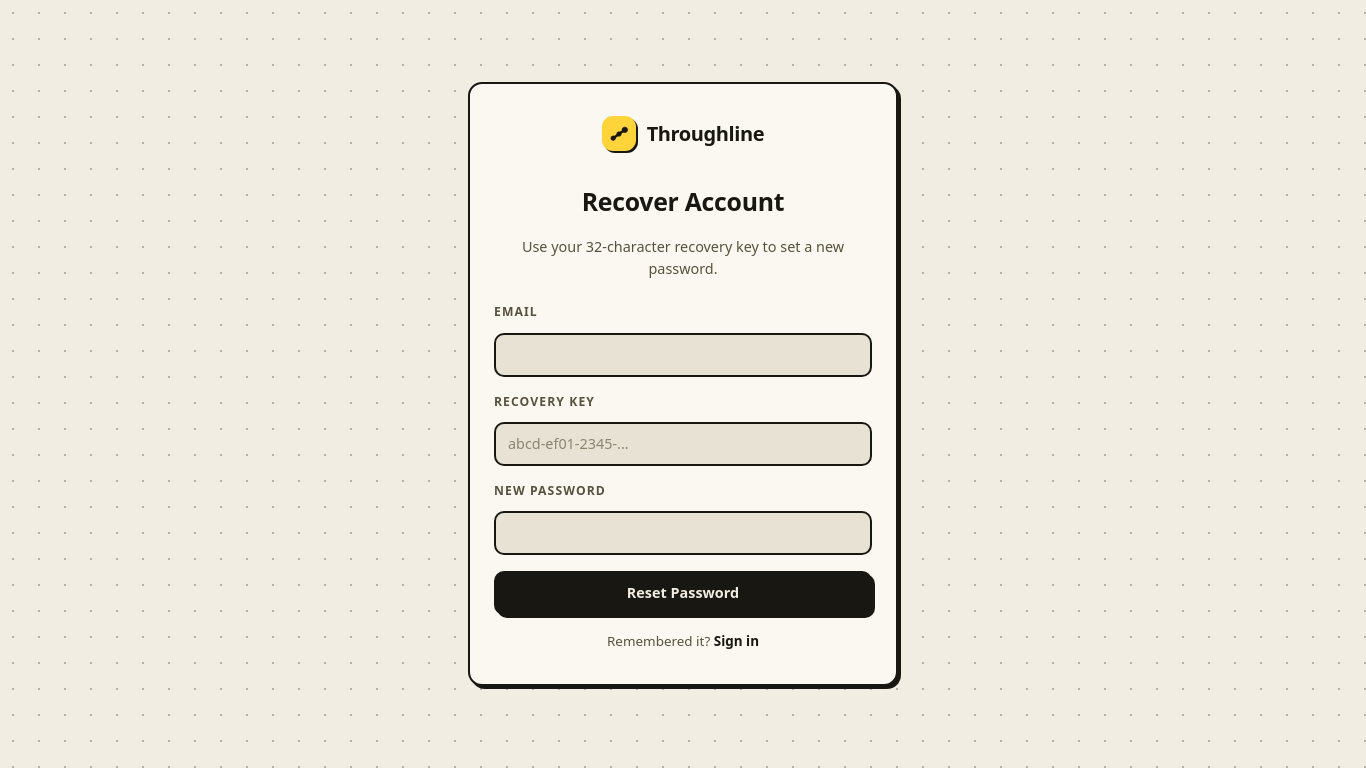
ForgotPassword › validates short passwords
The image size is (1366, 768).
In the field labelled "Email": (683, 355) [494,333,872,377], type "test@test.com"
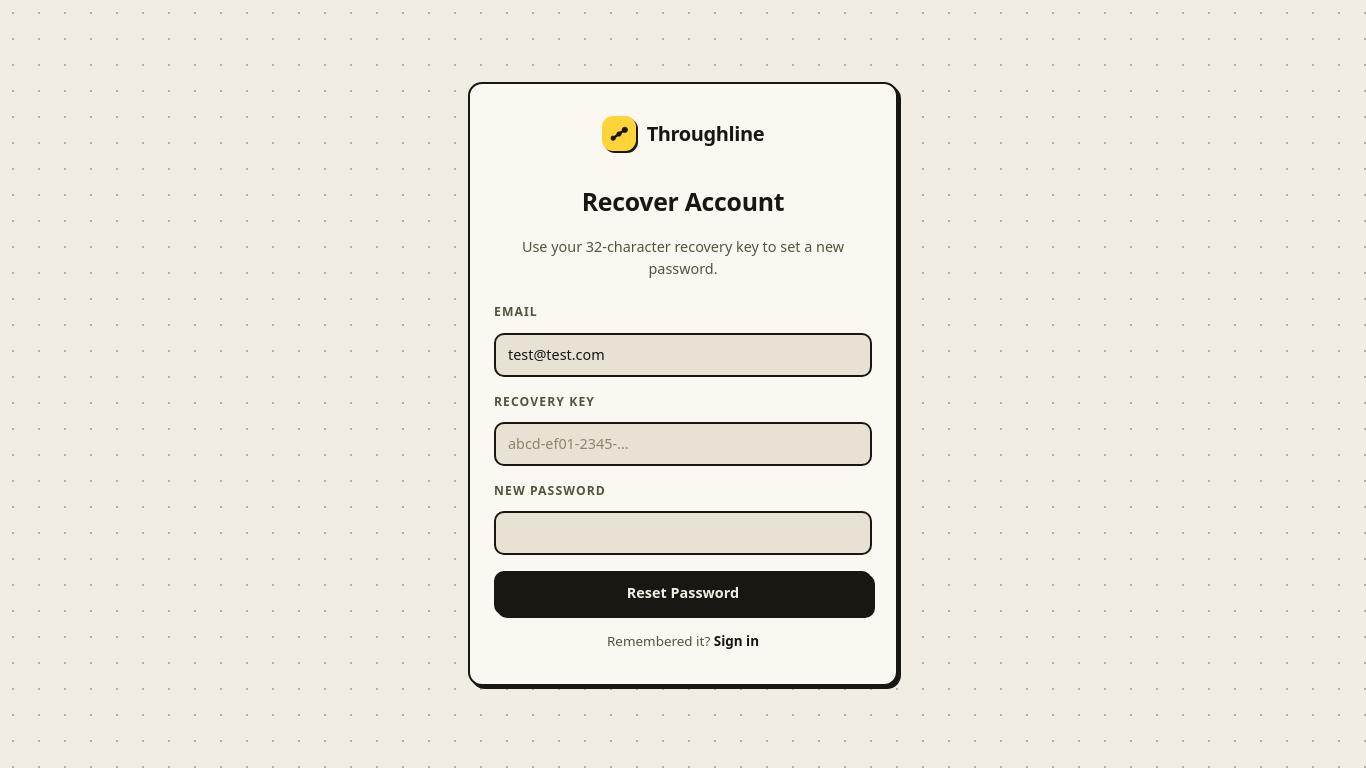
In the field labelled "Recovery Key": (683, 444) [494,422,872,466], type "abc"
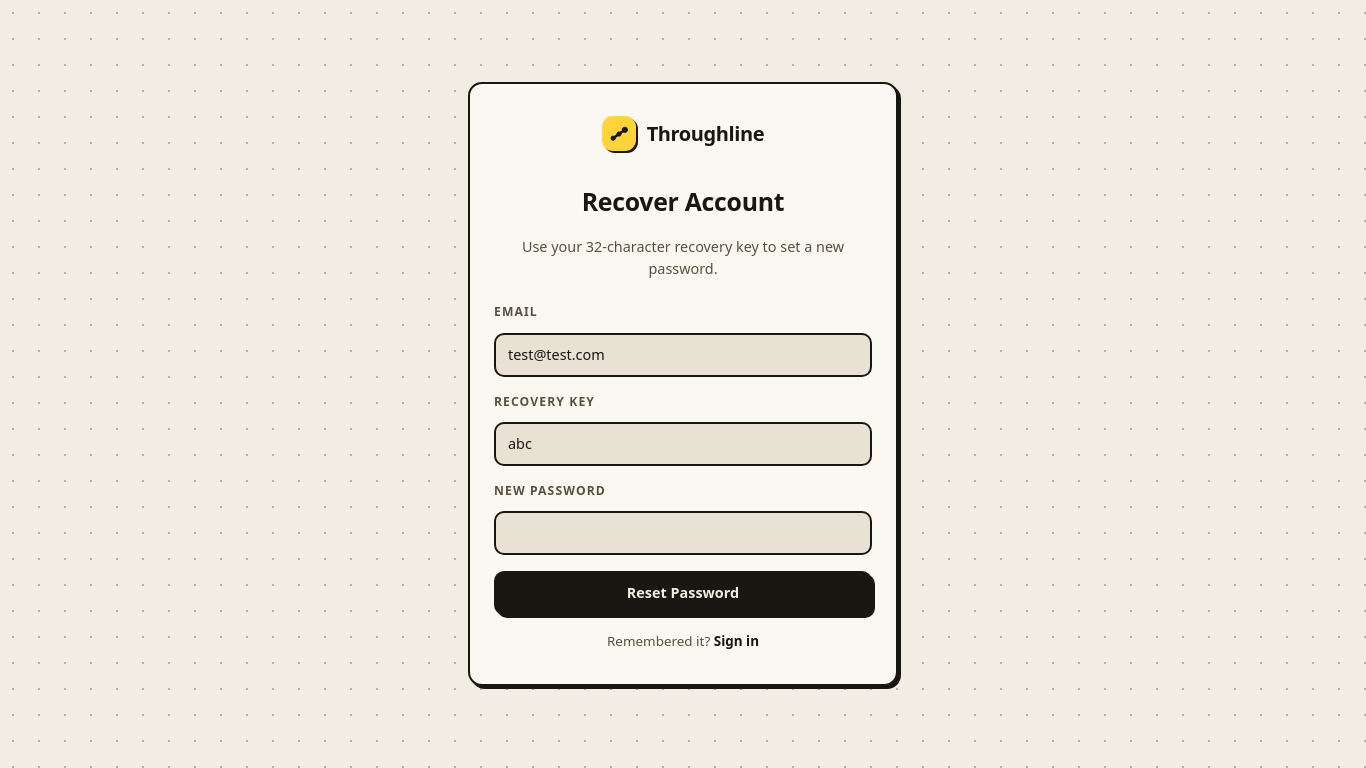
In the password field labelled "New Password": (683, 534) [494,512,872,556], type "short"
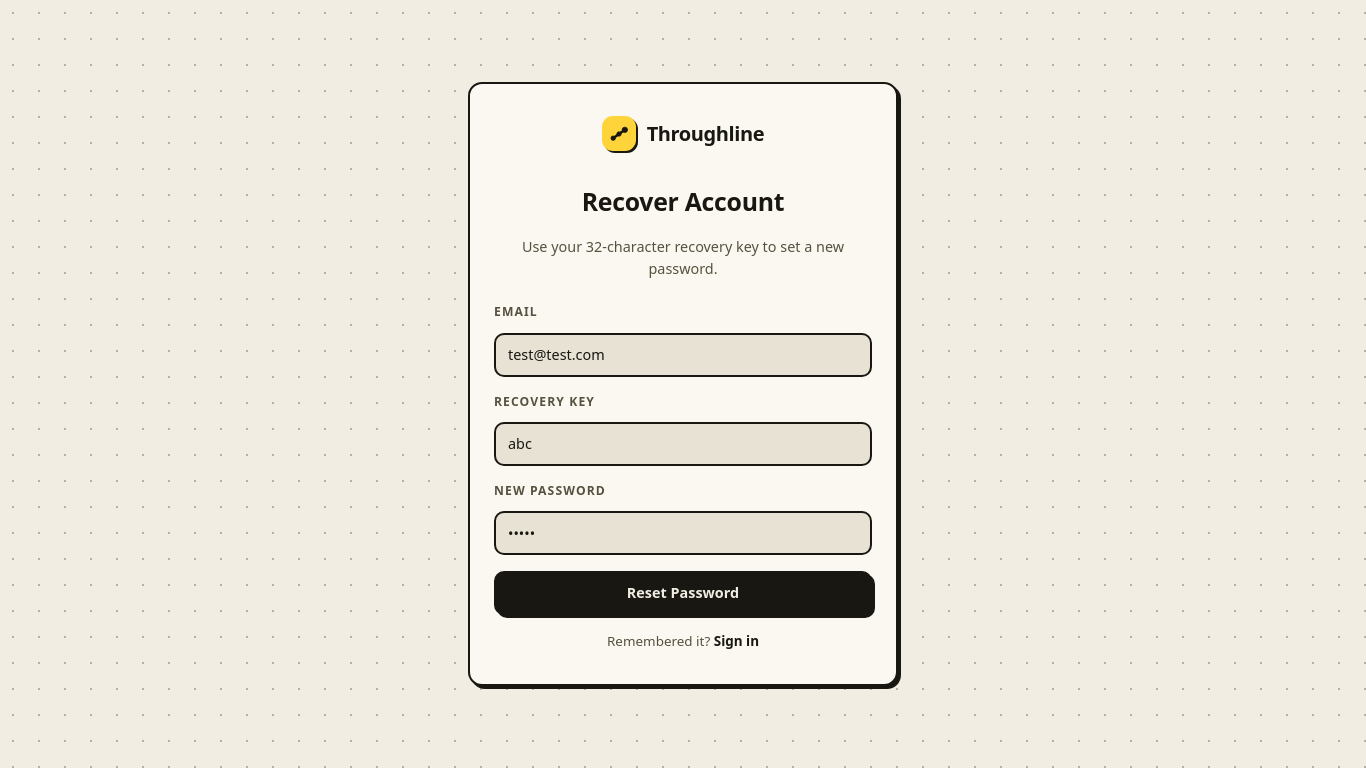
Click the button "Reset Password": (683, 594) [494,572,872,616]
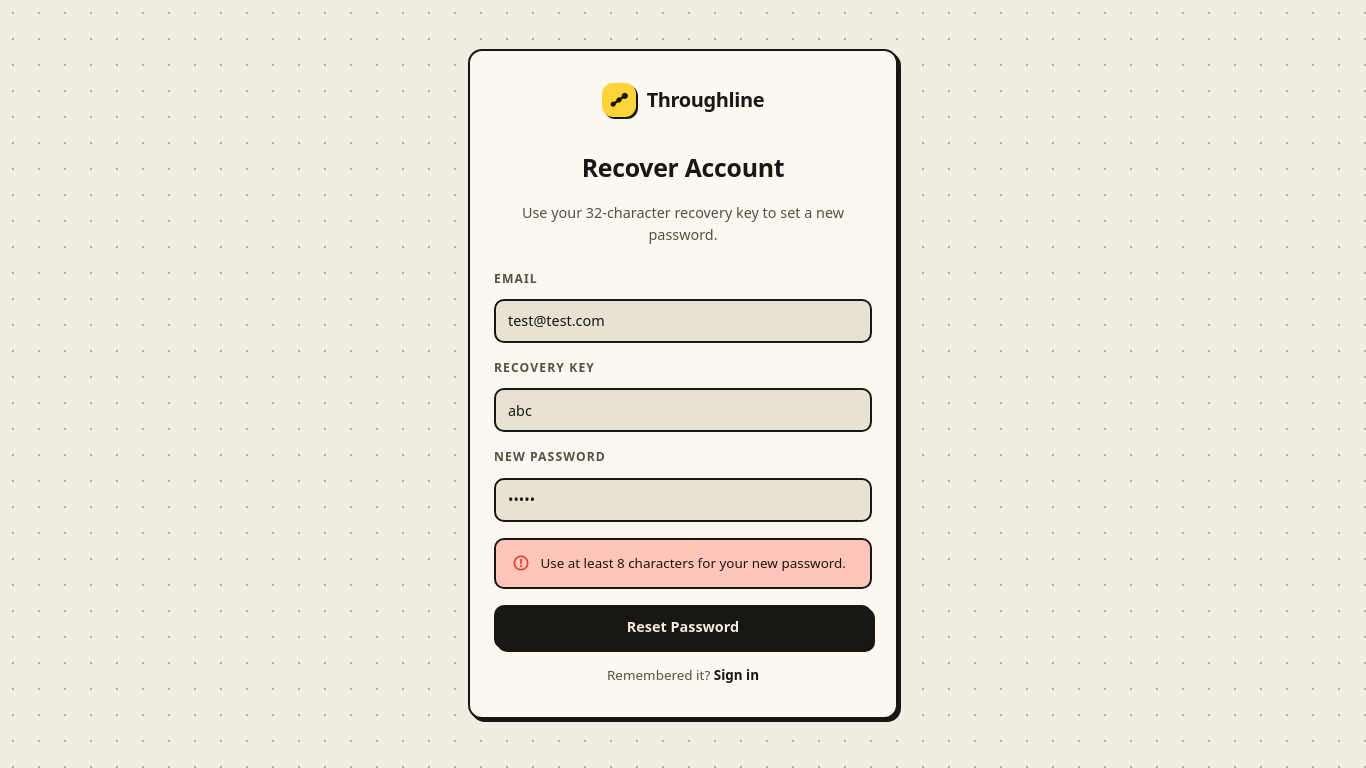
Now the text "Use at least 8 characters for your new password." is shown, box [540,553,846,574]
